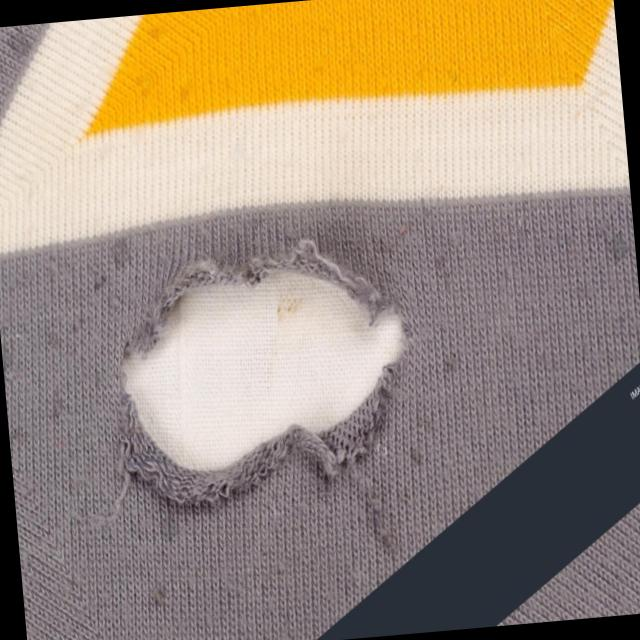cut: (110, 229, 414, 496)
